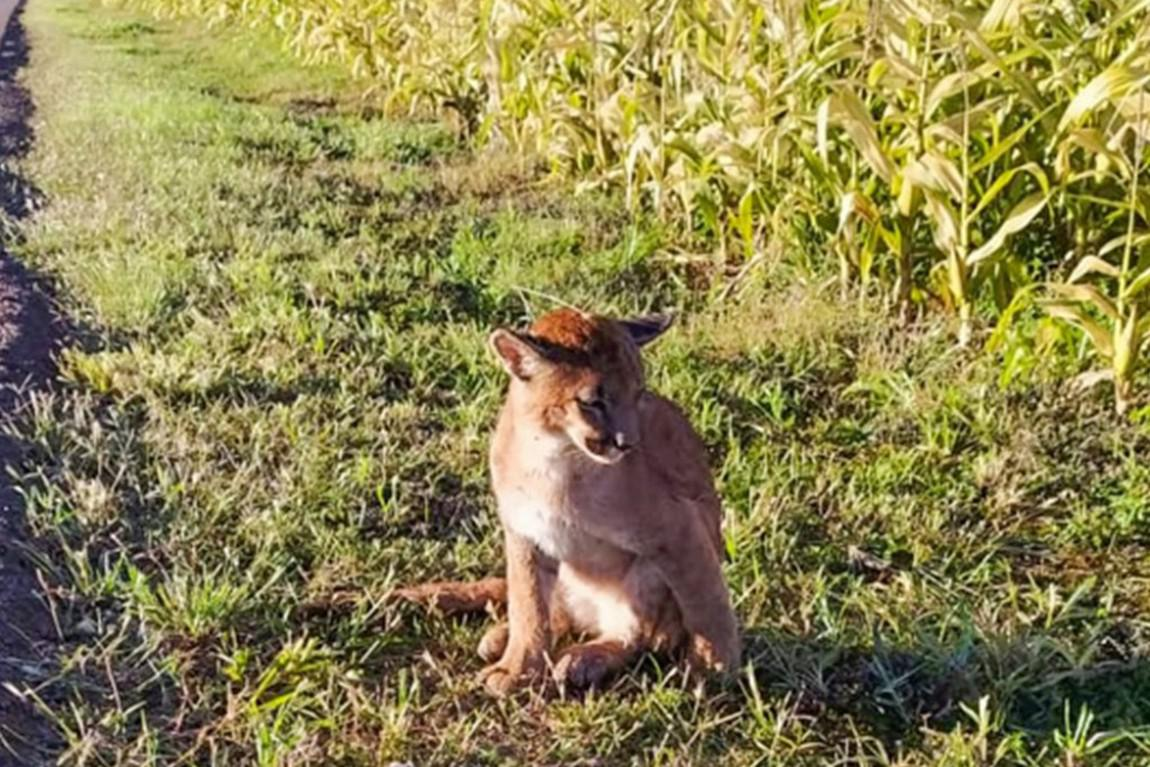OncaParda: (419, 305, 763, 696)
